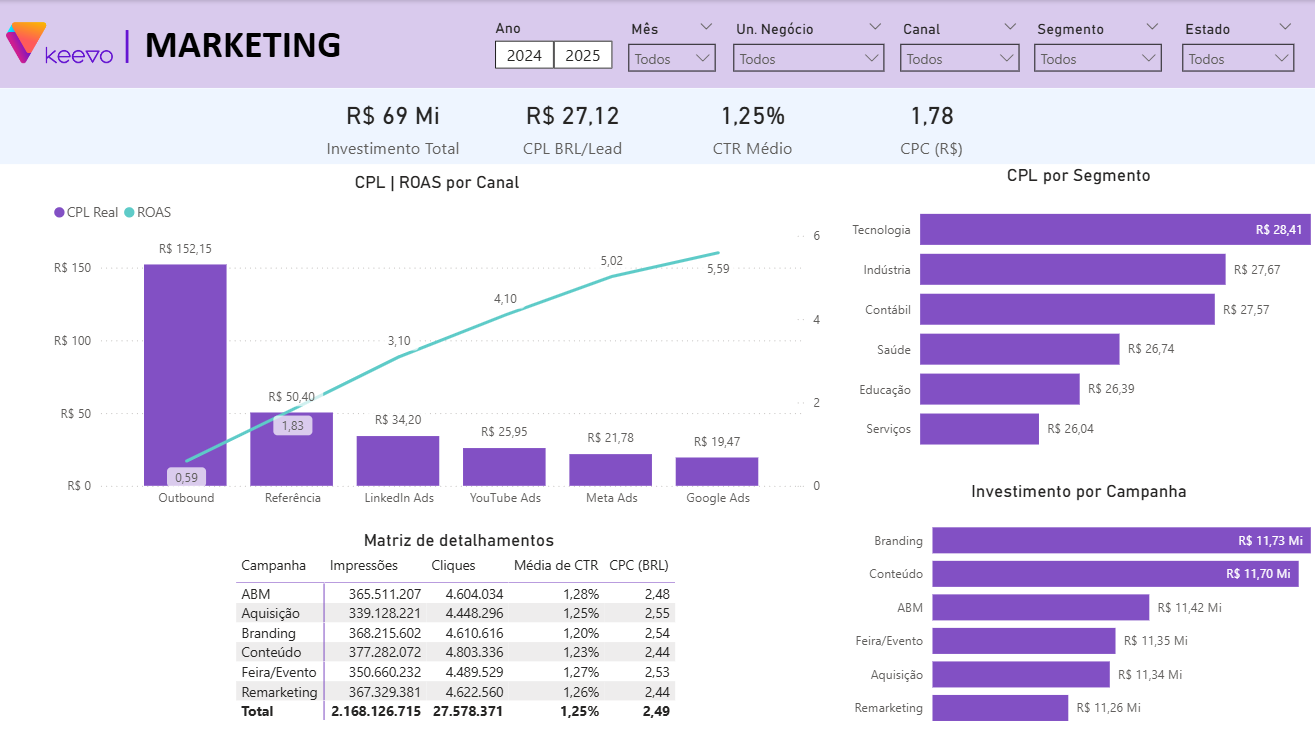

The page's visual inventory and layout, read from the dashboard file:
{"tool":"powerbi","page":{"name":"Marketing","canvas":[1280,720],"ordinal":2},"visuals":[{"type":"shape","box":[0,85.6,1280,74.4],"z":0},{"type":"shape","box":[0,0,1280,85.6],"z":1000},{"type":"card","fields":{"Values":["Sum(Sheet1.Investimento (R$))"]},"box":[294.3,85.6,175,73.3],"z":2000},{"type":"card","fields":{"Values":["Sheet1.CPL Real"]},"box":[470,85.6,174.4,73.3],"z":3000},{"type":"card","fields":{"Values":["Avg(Sheet1.CTR)"]},"box":[644.4,85.6,174.4,73.3],"z":4000},{"type":"card","fields":{"Values":["Avg(Sheet1.CPC (R$))"]},"box":[818.9,85.6,174.4,73.3],"z":5000},{"type":"lineStackedColumnComboChart","title":"CPL | ROAS por Canal","fields":{"Category":["Sheet1.Canal"],"Y":["Sheet1.CPL Real"],"Y2":["Sheet1.ROAS"]},"box":[46.7,167.8,756.7,335.6],"z":6000},{"type":"barChart","title":"CPL por Segmento","fields":{"Category":["Sheet1.Segmento"],"Y":["Sheet1.CPL Real"]},"box":[818.9,160,461.1,293.3],"z":7000},{"type":"barChart","title":"Investimento  por Campanha","fields":{"Category":["Sheet1.Campanha"],"Y":["Sheet1.Investimento Total"]},"box":[818.9,467.8,461.1,252.2],"z":8000},{"type":"pivotTable","title":"Matriz de detalhamentos","fields":{"Rows":["Sheet1.Campanha"],"Values":["Sum(Sheet1.Impressões)","Sum(Sheet1.Cliques)","Avg(Sheet1.CTR)","Sheet1.CPC Real"]},"box":[224.4,515.6,443.3,204.4],"z":9000},{"type":"textbox","title":"SUMÁRIO EXECUTIVO","box":[110,14.6,454,61],"z":10000},{"type":"advancedSlicerVisual","title":"Ano","fields":{"Values":["Sheet1.Ano"]},"box":[476.6,13.6,124.5,58.4],"z":11000},{"type":"slicer","fields":{"Values":["Sheet1.Mês"]},"box":[601.1,14.4,105,58.4],"z":12000},{"type":"slicer","fields":{"Values":["Sheet1.Unidade de Negócio"]},"box":[703.2,14.4,167.3,58.4],"z":13000},{"type":"slicer","fields":{"Values":["Sheet1.Canal"]},"box":[865.7,14.4,136.2,58.4],"z":14000},{"type":"slicer","fields":{"Values":["Sheet1.Segmento"]},"box":[996,14.4,144,58.4],"z":15000},{"type":"image","box":[5.6,18.9,104.4,46.7],"z":16000},{"type":"slicer","fields":{"Values":["Sheet1.Estado"]},"box":[1139.9,14.4,129.4,58.4],"z":17000}]}

Visuals, with their boxes in screenshot pixels (x1, y1, x2, y2), scaled from the page's 1280x720 canvas onto the 1315x739 screenshot:
shape: (left=0, top=88, right=1314, bottom=164)
shape: (left=0, top=0, right=1314, bottom=88)
card - Sum(Sheet1.Investimento (R$)): (left=302, top=88, right=482, bottom=163)
card - Sheet1.CPL Real: (left=483, top=88, right=662, bottom=163)
card - Avg(Sheet1.CTR): (left=662, top=88, right=841, bottom=163)
card - Avg(Sheet1.CPC (R$)): (left=841, top=88, right=1020, bottom=163)
"CPL | ROAS por Canal" lineStackedColumnComboChart: (left=48, top=172, right=825, bottom=517)
"CPL por Segmento" barChart: (left=841, top=164, right=1314, bottom=465)
"Investimento  por Campanha" barChart: (left=841, top=480, right=1314, bottom=738)
"Matriz de detalhamentos" pivotTable: (left=231, top=529, right=686, bottom=738)
"SUMÁRIO EXECUTIVO" textbox: (left=113, top=15, right=579, bottom=78)
"Ano" advancedSlicerVisual: (left=490, top=14, right=618, bottom=74)
slicer - Sheet1.Mês: (left=618, top=15, right=725, bottom=75)
slicer - Sheet1.Unidade de Negócio: (left=722, top=15, right=894, bottom=75)
slicer - Sheet1.Canal: (left=889, top=15, right=1029, bottom=75)
slicer - Sheet1.Segmento: (left=1023, top=15, right=1171, bottom=75)
image: (left=6, top=19, right=113, bottom=67)
slicer - Sheet1.Estado: (left=1171, top=15, right=1304, bottom=75)
